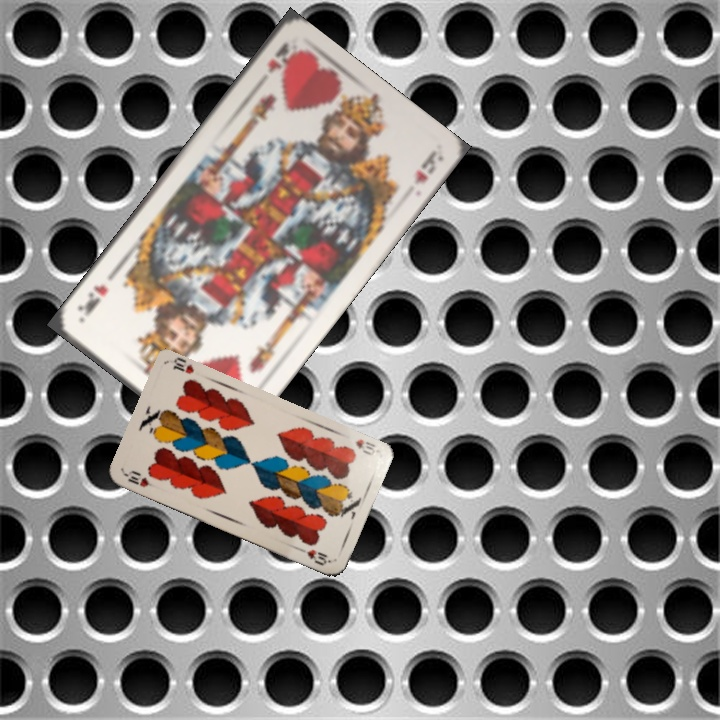H10: (121, 467, 159, 491), (350, 435, 378, 458)
HK: (263, 38, 298, 76)
